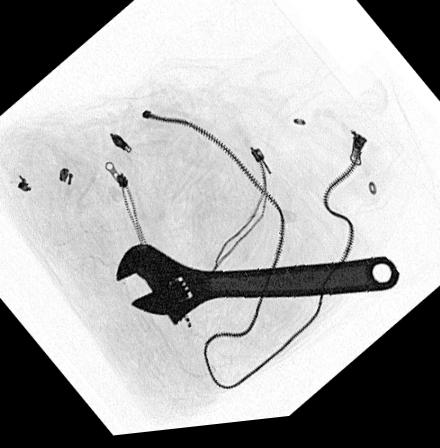Wrench: (112, 242, 401, 330)
